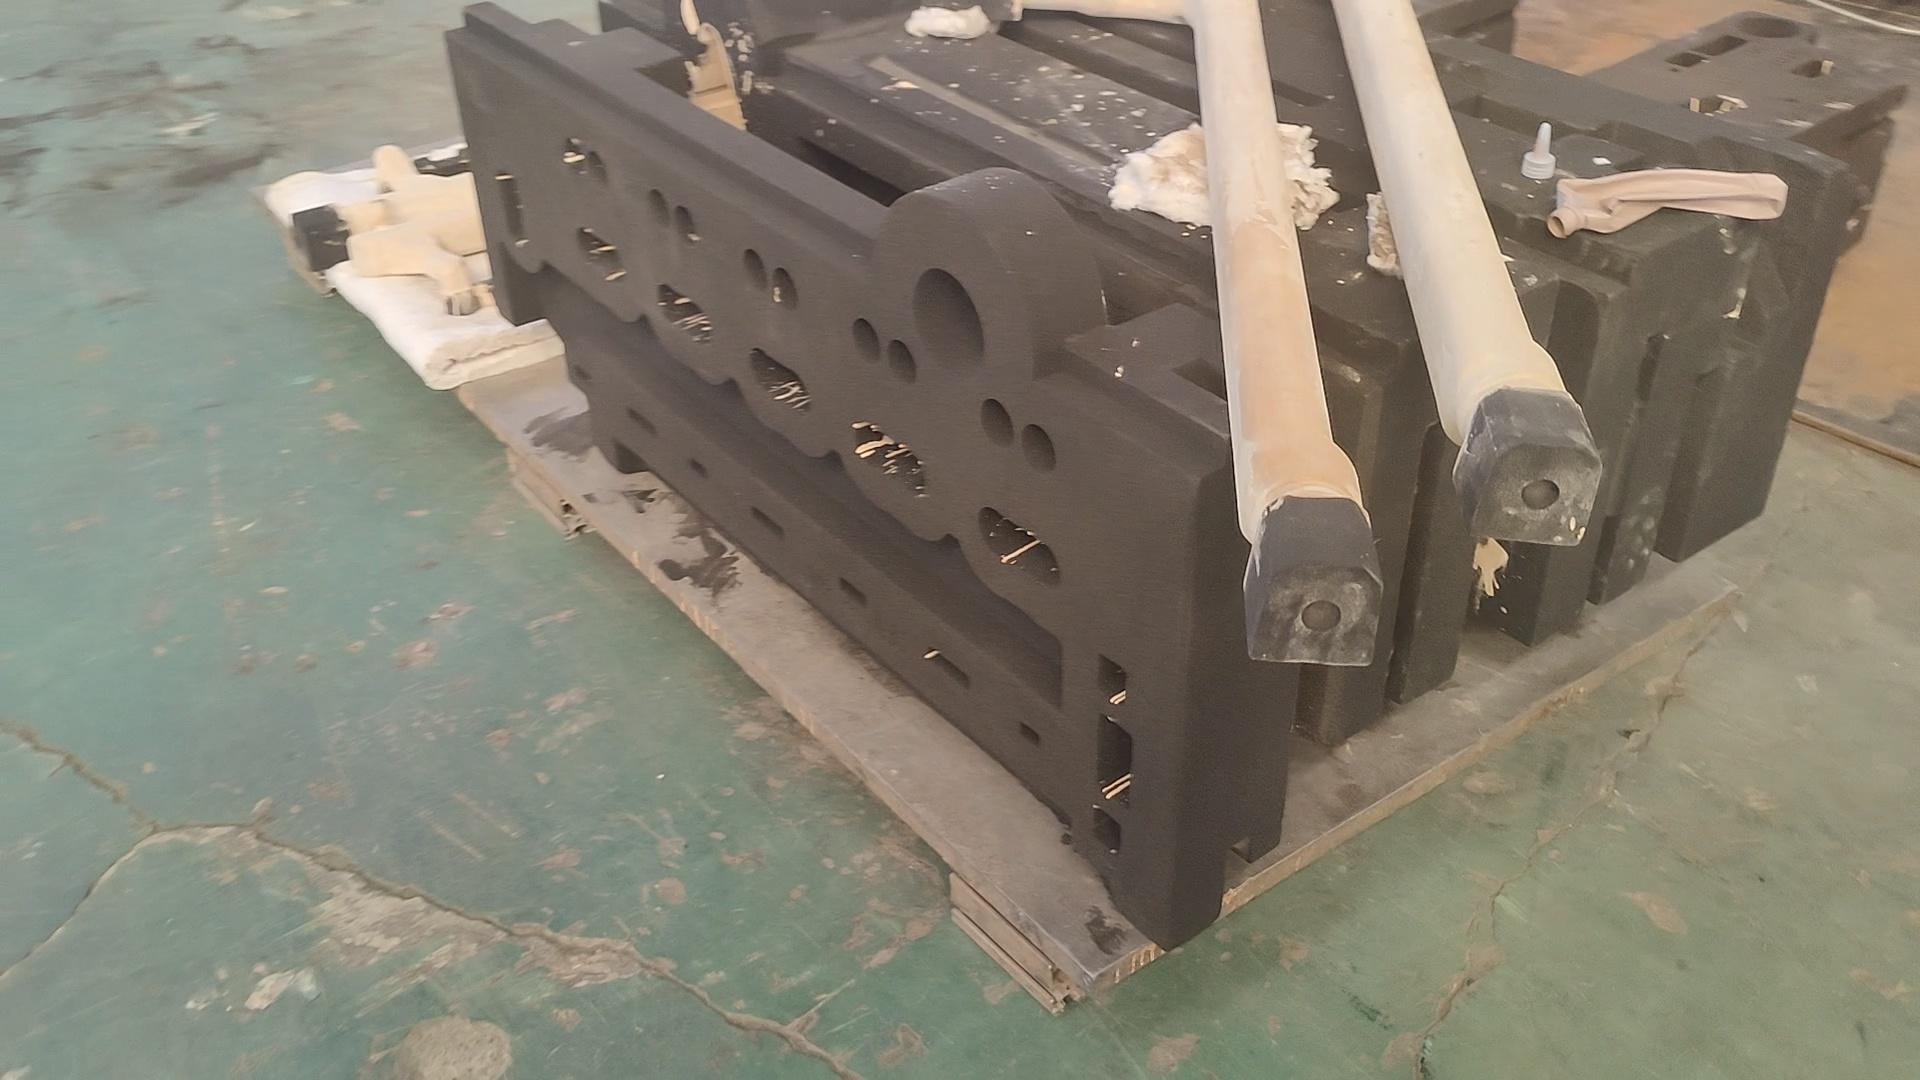pouring hole: (911, 266, 986, 375), (1733, 15, 1804, 38)
